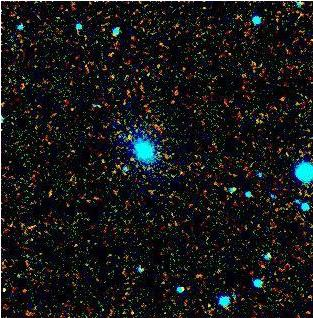star: (0, 274, 21, 304)
